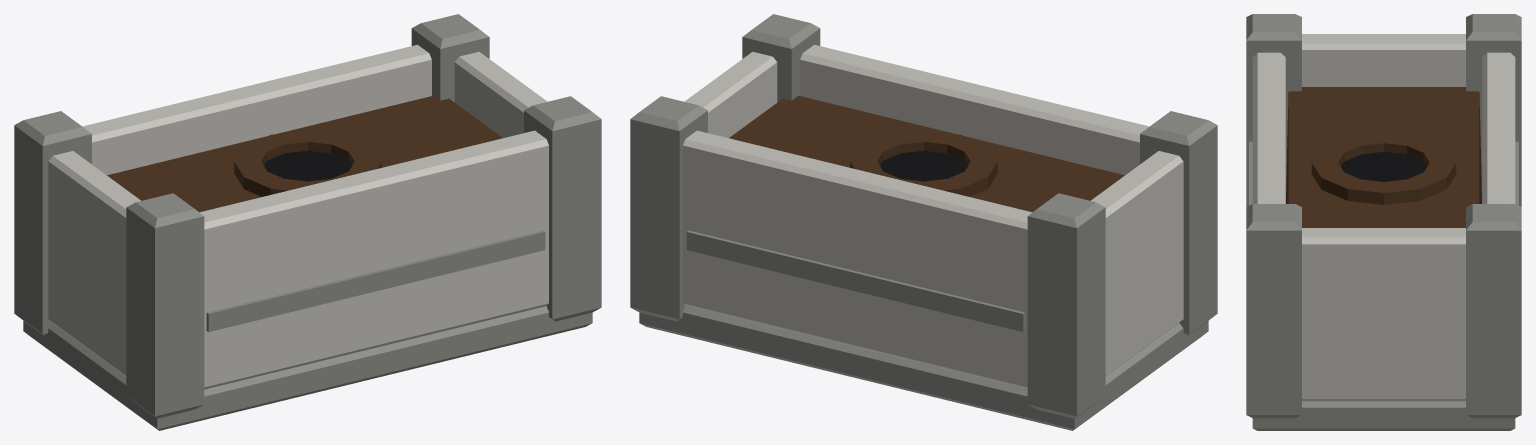
Rendered from PROP_16.obj.
3 renders of one model, left to right at view 1: azimuth 30°, elevation 25°; view 2: azimuth 150°, elevation 25°; view 3: azimuth 270°, elevation 25°, orthographic. The views are drawn at different scales.
Parts seen in each view (by area): view 1: PROP_16__wall, PROP_16__pilaster, PROP_16__floor, PROP_16__soil, PROP_16__band, PROP_16__soil_ring, PROP_16__planting_hole; view 2: PROP_16__wall, PROP_16__pilaster, PROP_16__floor, PROP_16__soil, PROP_16__band, PROP_16__soil_ring, PROP_16__planting_hole; view 3: PROP_16__wall, PROP_16__pilaster, PROP_16__soil, PROP_16__soil_ring, PROP_16__floor, PROP_16__planting_hole, PROP_16__band.
Part boxes in pixels (box(x1,y1,x2,y2)): PROP_16__wall: box(48, 44, 548, 389); PROP_16__pilaster: box(14, 14, 601, 418); PROP_16__floor: box(23, 306, 592, 430); PROP_16__soil: box(107, 95, 502, 212); PROP_16__band: box(206, 230, 545, 331); PROP_16__soil_ring: box(234, 130, 381, 196); PROP_16__planting_hole: box(264, 150, 351, 181); PROP_16__wall: box(683, 44, 1183, 389); PROP_16__pilaster: box(630, 14, 1217, 418); PROP_16__floor: box(639, 306, 1208, 430); PROP_16__soil: box(729, 95, 1124, 212); PROP_16__band: box(686, 230, 1025, 331); PROP_16__soil_ring: box(850, 130, 997, 196); PROP_16__planting_hole: box(880, 150, 967, 181); PROP_16__wall: box(1252, 34, 1515, 401); PROP_16__pilaster: box(1246, 14, 1521, 418); PROP_16__soil: box(1286, 87, 1481, 227); PROP_16__soil_ring: box(1311, 132, 1456, 204); PROP_16__floor: box(1252, 401, 1515, 430); PROP_16__planting_hole: box(1341, 152, 1426, 181); PROP_16__band: box(1249, 141, 1518, 205).
Bounding box in the file's own units: 1.54 × 0.71 × 0.84.
